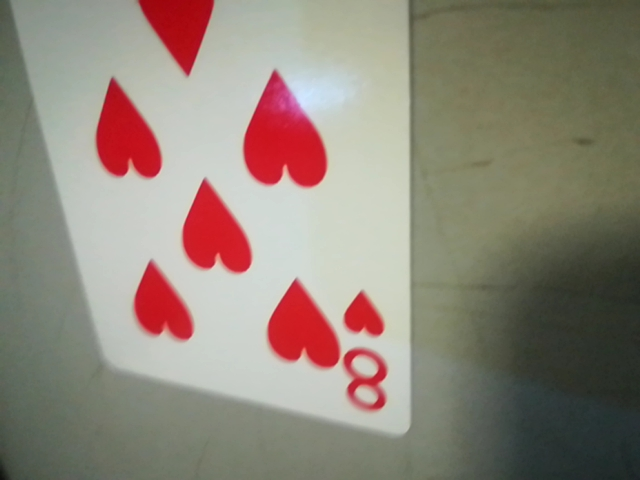hx 8: (334, 285, 403, 419)
